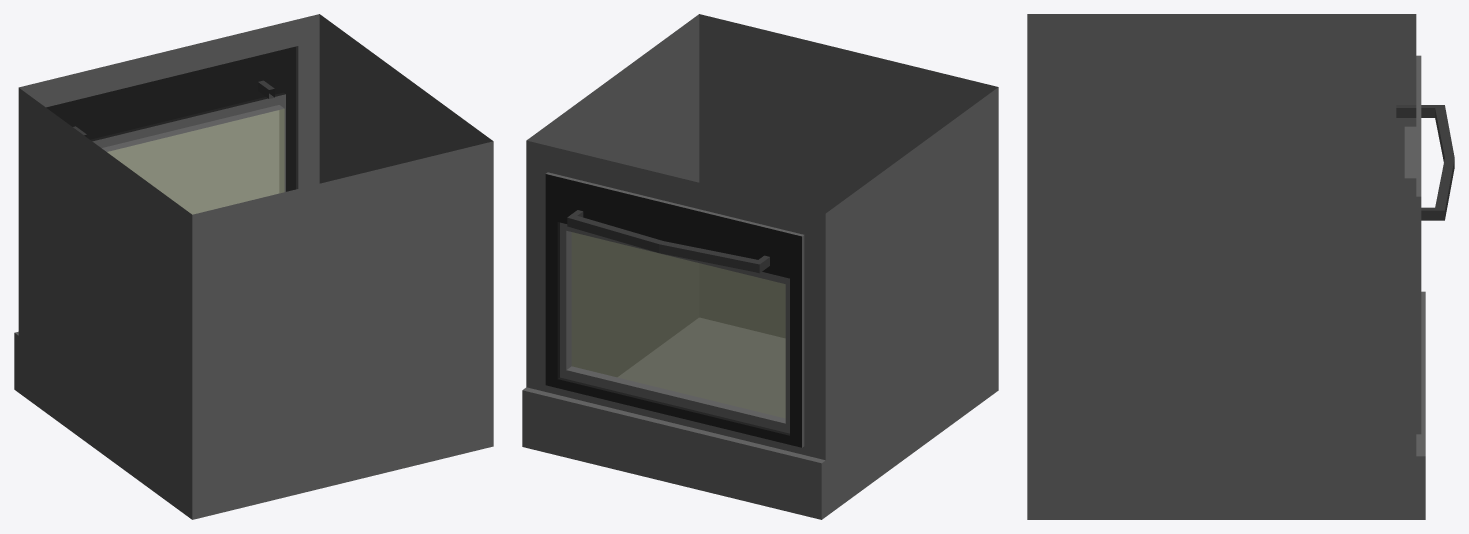
File: fırın.fbx
3 views of the same model, side by side, from view 1: azimuth 30°, elevation 25°; view 2: azimuth 150°, elevation 25°; view 3: azimuth 270°, elevation 25° (orthographic). The views are drawn at different scales.
Visible parts, largest first — view 1: Cube.034, Cube.068; view 2: Cube.034, Cube.068; view 3: Cube.034.
Part boxes in pixels (x1,y1,x2,y2): Cube.034: (14, 14, 493, 519); Cube.068: (107, 108, 284, 214); Cube.034: (522, 14, 998, 519); Cube.068: (571, 232, 785, 418); Cube.034: (1027, 14, 1454, 519).
Bounding box in the file's own units: 157 × 152 × 173.
2 materials, 1 textured.
